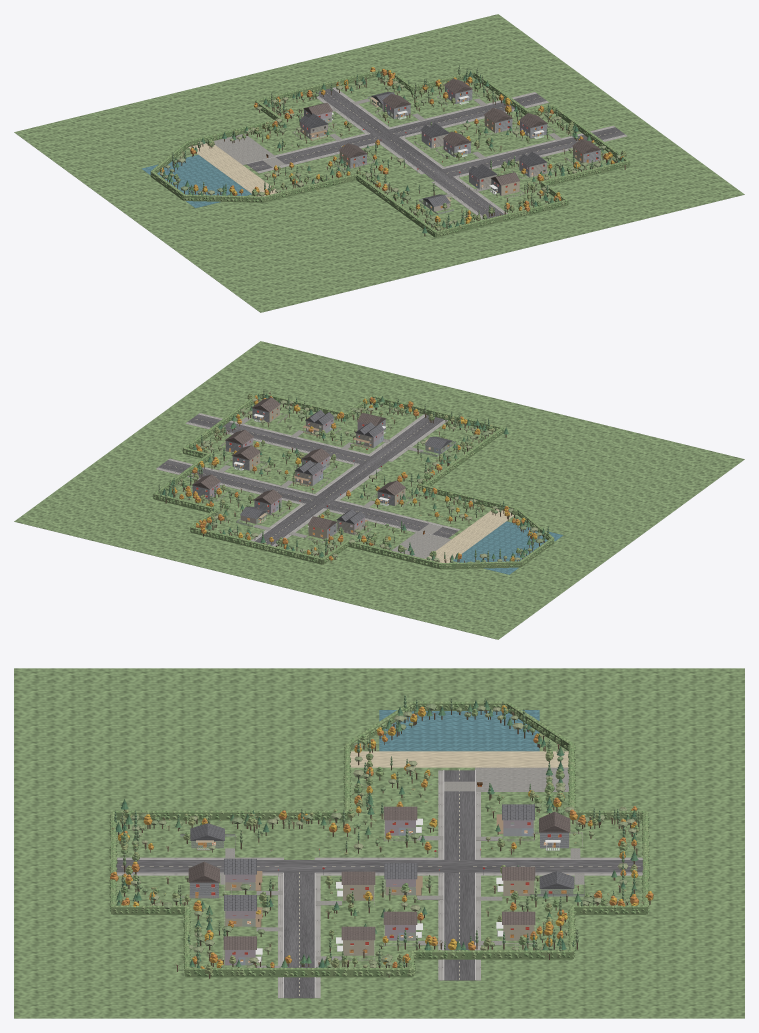
The model's file is neighborhood.glb.
3 renders of one model, top to bottom at view 1: azimuth 30°, elevation 25°; view 2: azimuth 150°, elevation 25°; view 3: azimuth 270°, elevation 25°, orthographic. The views are drawn at different scales.
Parts seen in each view (by area): view 1: ground-col, road_v_149-col, streets_curbs_sidewalks-col, road_h_89-col, lake_water_surface, road_h_52-col, lake_beach-col, lake_parking-col, house3_453_structure-col, house1_527_structure-col, house1_365_structure-col, house1_431_structure-col (+8 smaller); view 2: ground-col, road_v_149-col, streets_curbs_sidewalks-col, road_h_89-col, lake_water_surface, road_h_52-col, lake_beach-col, lake_parking-col, house3_297_structure-col, house3_409_structure-col, house1_431_structure-col, house1_343_structure-col (+6 smaller); view 3: ground-col, streets_curbs_sidewalks-col, road_h_89-col, road_v_149-col, lake_water_surface, road_h_52-col, lake_beach-col, lake_parking-col, house3_453_structure-col, house3_297_structure-col, house3_409_structure-col, house3_321_structure-col (+11 smaller).
Part boxes in pixels (left/top/right/bottom): ground-col: left=14, top=14, right=744, bottom=312; road_v_149-col: left=315, top=88, right=503, bottom=218; streets_curbs_sidewalks-col: left=246, top=87, right=627, bottom=219; road_h_89-col: left=247, top=93, right=546, bottom=171; lake_water_surface: left=141, top=154, right=251, bottom=208; road_h_52-col: left=443, top=127, right=624, bottom=176; lake_beach-col: left=188, top=143, right=276, bottom=196; lake_parking-col: left=214, top=133, right=275, bottom=164; house3_453_structure-col: left=299, top=113, right=328, bottom=140; house1_527_structure-col: left=489, top=172, right=520, bottom=195; house1_365_structure-col: left=382, top=93, right=411, bottom=119; house1_431_structure-col: left=484, top=108, right=512, bottom=133; ground-col: left=14, top=341, right=744, bottom=639; road_v_149-col: left=255, top=415, right=443, bottom=545; streets_curbs_sidewalks-col: left=156, top=413, right=459, bottom=546; road_h_89-col: left=158, top=460, right=457, bottom=538; lake_water_surface: left=453, top=521, right=563, bottom=574; road_h_52-col: left=188, top=414, right=369, bottom=463; lake_beach-col: left=425, top=509, right=513, bottom=562; lake_parking-col: left=391, top=531, right=451, bottom=558; house3_297_structure-col: left=353, top=422, right=384, bottom=448; house3_409_structure-col: left=292, top=460, right=323, bottom=486; house1_431_structure-col: left=232, top=445, right=260, bottom=470; house1_343_structure-col: left=252, top=397, right=280, bottom=422; ground-col: left=14, top=668, right=744, bottom=1018; streets_curbs_sidewalks-col: left=117, top=770, right=642, bottom=998; road_h_89-col: left=444, top=770, right=474, bottom=980; road_v_149-col: left=116, top=860, right=643, bottom=872; lake_water_surface: left=379, top=710, right=539, bottom=751; road_h_52-col: left=284, top=873, right=314, bottom=998; lake_beach-col: left=350, top=751, right=568, bottom=767; lake_parking-col: left=475, top=767, right=569, bottom=791; house3_453_structure-col: left=496, top=804, right=534, bottom=836; house3_297_structure-col: left=224, top=858, right=262, bottom=890; house3_409_structure-col: left=384, top=863, right=422, bottom=895; house3_321_structure-col: left=224, top=895, right=262, bottom=927.
Bounding box in the file's own units: 258 × 10.9 × 228.
327 materials, 51 textured.
